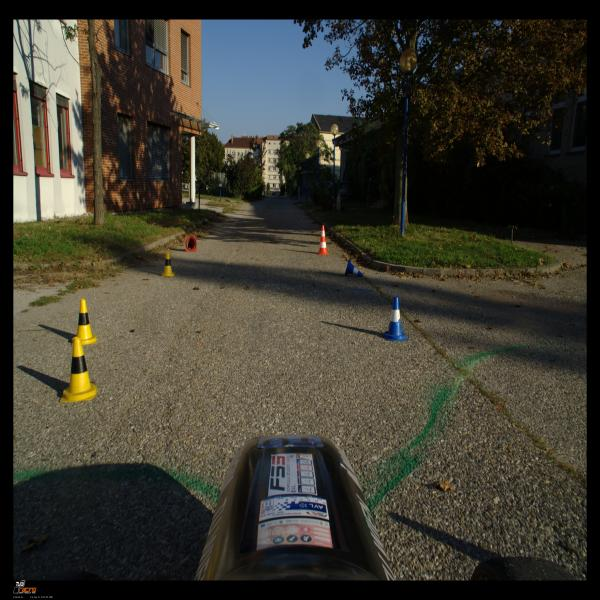blue_cone: (382, 296, 408, 341), (344, 259, 363, 277)
large_orange_cone: (317, 225, 329, 254), (184, 236, 196, 251)
yellow_cone: (60, 336, 98, 403), (72, 299, 97, 346), (160, 251, 176, 277)
